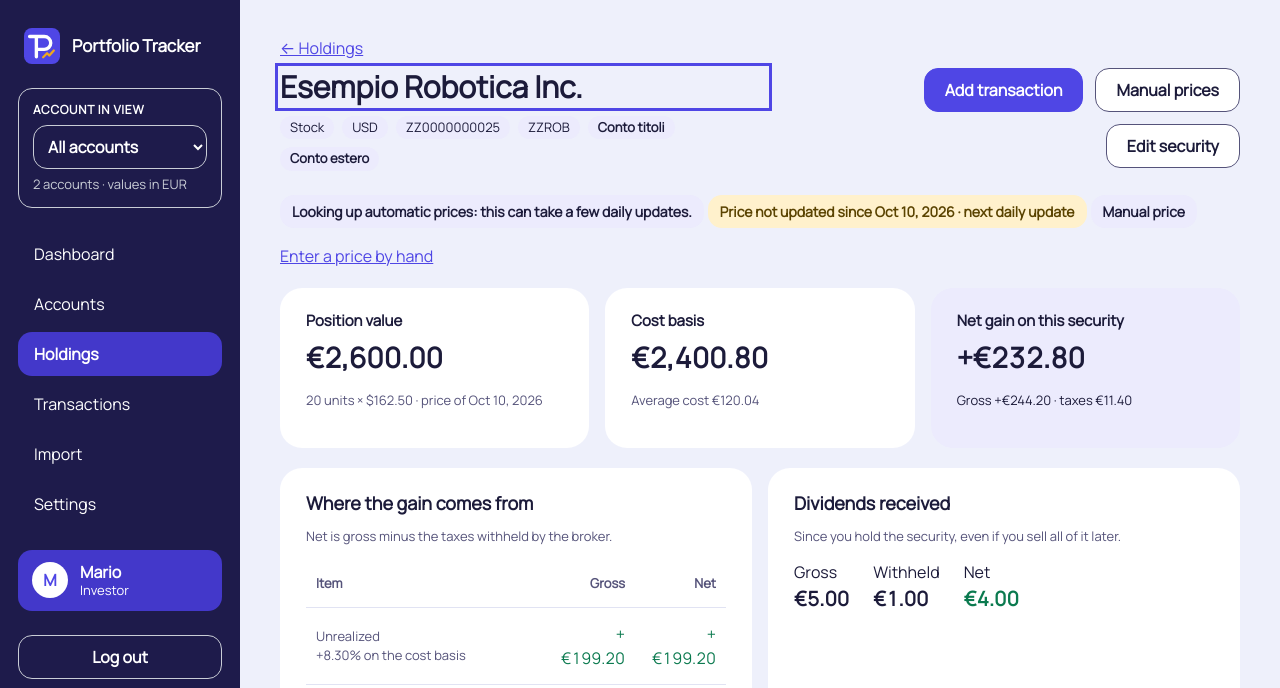
Test: holding detail (mockup 03 without the chart, D-146) › edits the security from its head, then says so and reloads it (D-150)
The width and height of the screenshot is (1280, 688).
Click the button "Edit security".
click(1173, 146)  # box [1106,124,1240,168]
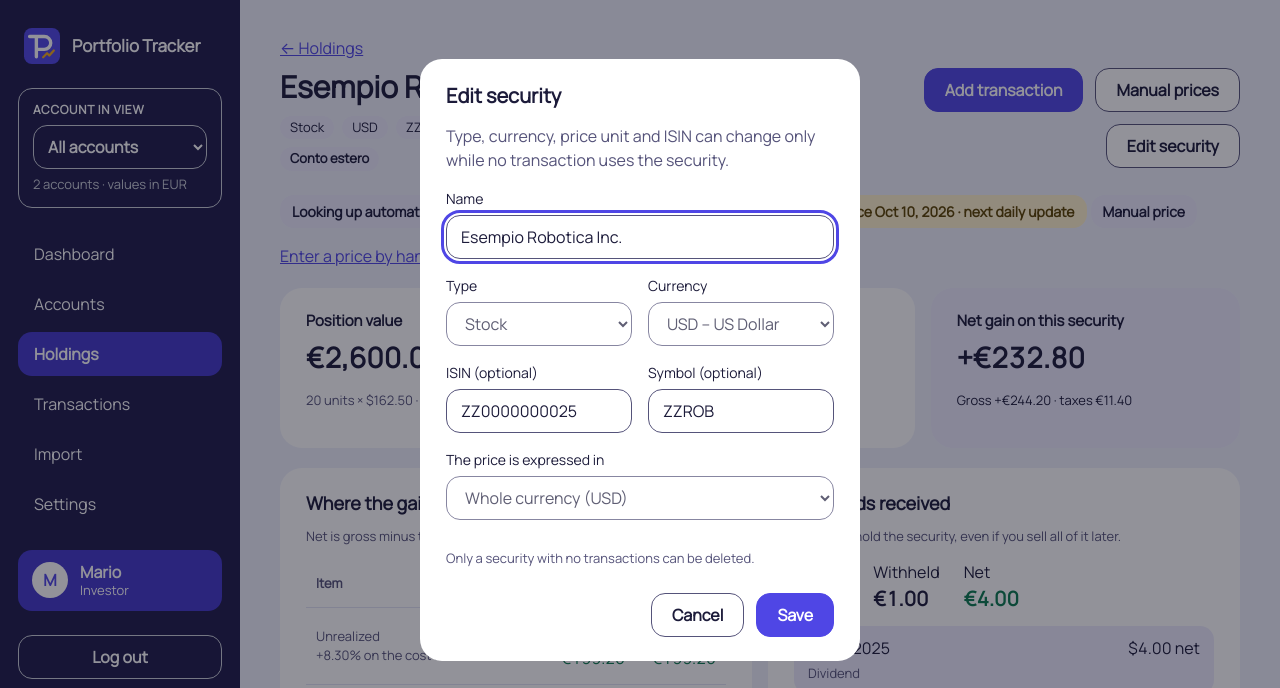
Check: the dropdown labelled "Currency" is disabled, box [648,302,834,346]
Replace the text in the field labelled "Name" with "Esempio Robotica SpA" at (640, 237), box [446,215,834,259]
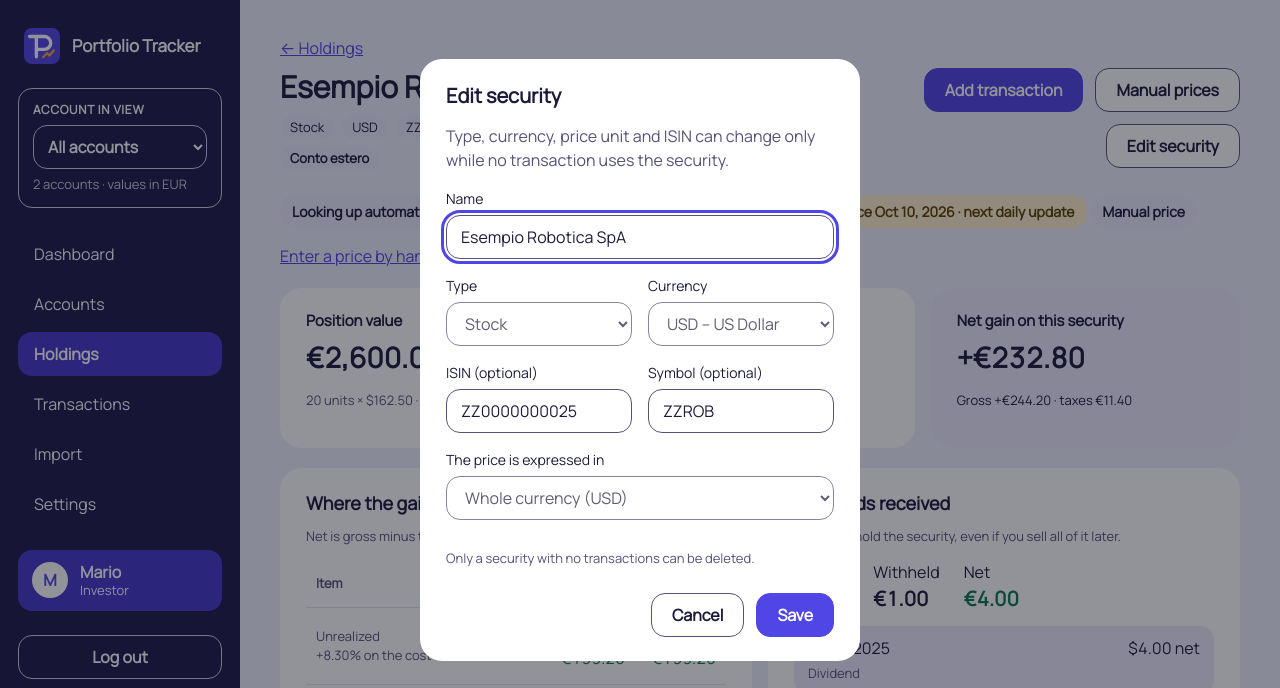
Click the button "Save".
click(795, 615)  # box [756,593,834,637]
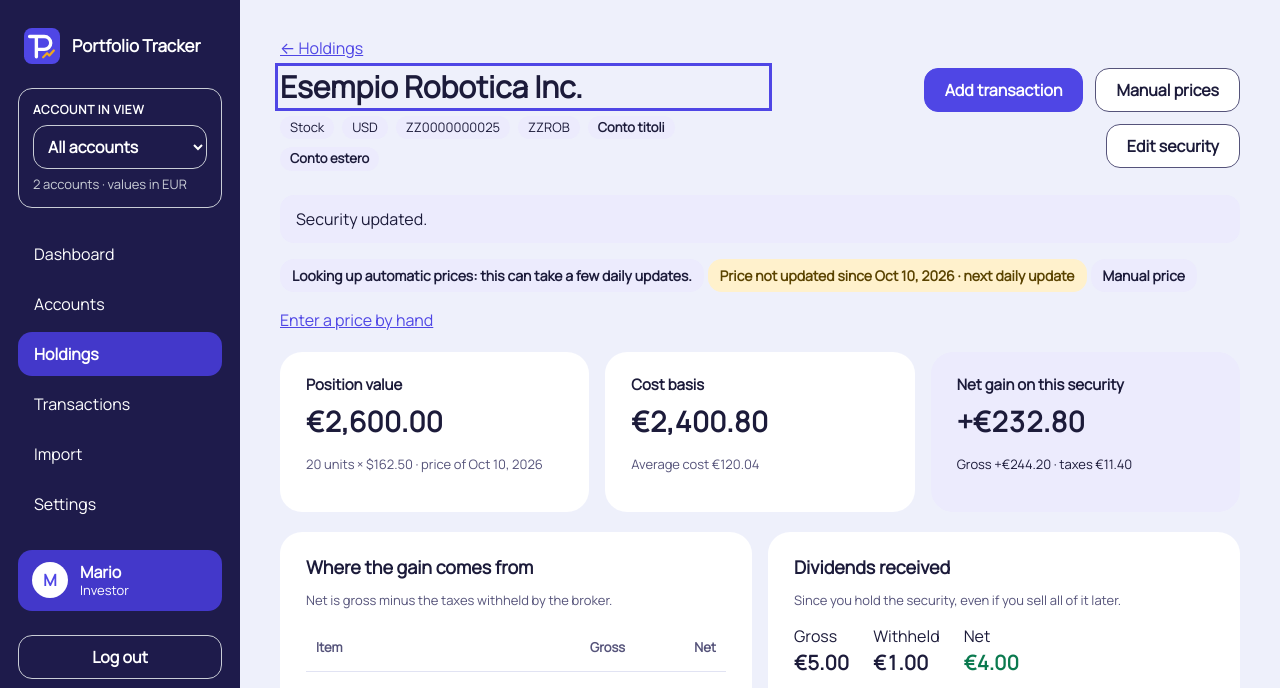
Check: the text "Security updated." is shown, box [296,208,427,230]
Check: the dialog is gone
